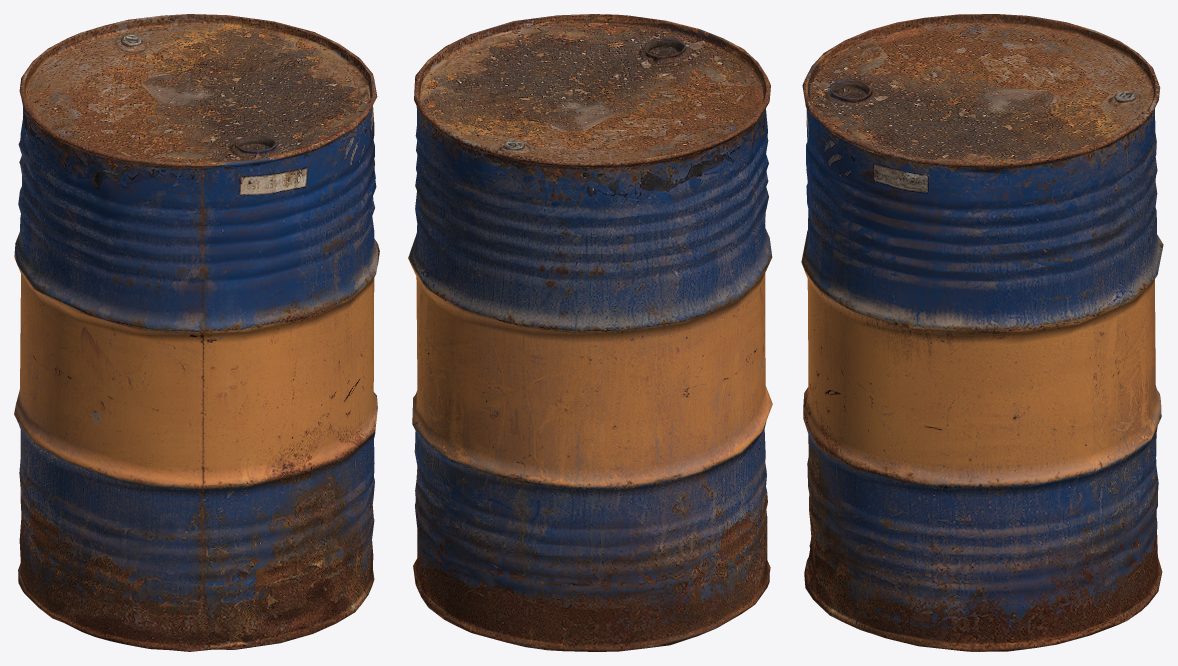
Rendered from SM_Ind_Aba_Storage_Barrel_Metal_Blue_01.gltf.
The picture shows the model from 3 angles, left to right: view 1: azimuth 30°, elevation 25°; view 2: azimuth 150°, elevation 25°; view 3: azimuth 270°, elevation 25°; orthographic projection.
Visible parts, largest first — view 1: SM_Ind_Aba_Storage_Barrel_Metal_Blue_01; view 2: SM_Ind_Aba_Storage_Barrel_Metal_Blue_01; view 3: SM_Ind_Aba_Storage_Barrel_Metal_Blue_01.
Part boxes in pixels (box(x1,y1,x2,y2)): SM_Ind_Aba_Storage_Barrel_Metal_Blue_01: box(14, 14, 379, 651); SM_Ind_Aba_Storage_Barrel_Metal_Blue_01: box(408, 14, 772, 651); SM_Ind_Aba_Storage_Barrel_Metal_Blue_01: box(801, 14, 1163, 651).
Bounding box in the file's own units: 0.5862 × 0.8741 × 0.5854.
Materials: 1 (1 with a texture image).
